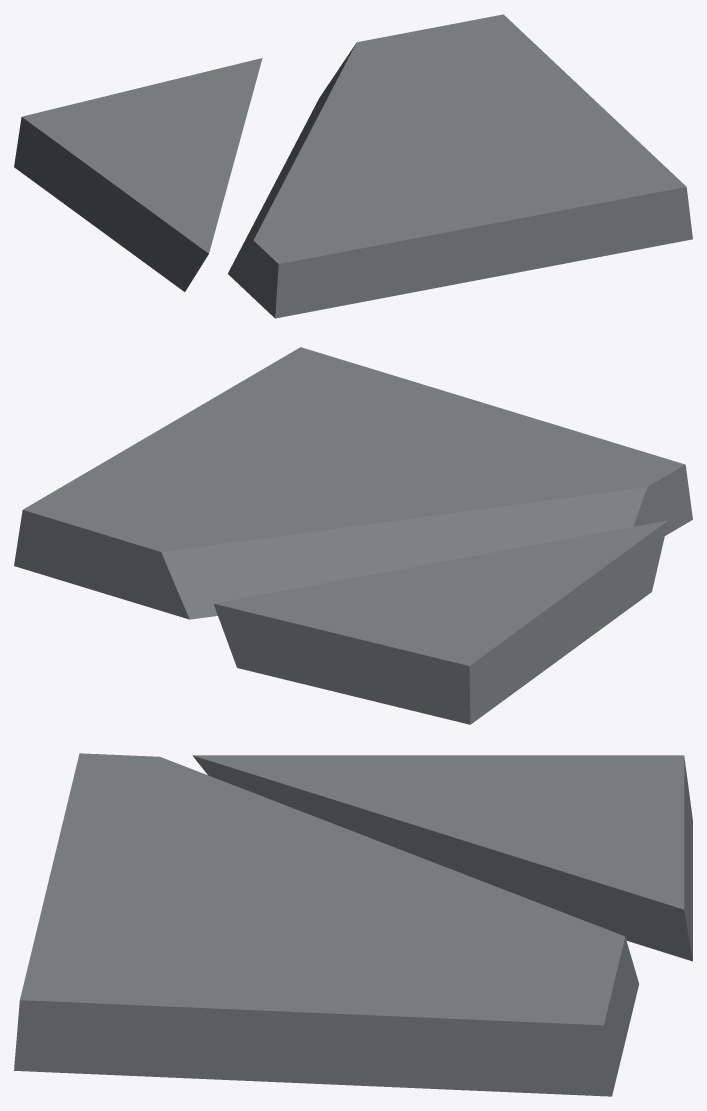
Rendered from Rock_Tile_crk_m_03.fbx.
3 renders of one model, top to bottom at view 1: azimuth 30°, elevation 25°; view 2: azimuth 150°, elevation 25°; view 3: azimuth 270°, elevation 25°, orthographic. The views are drawn at different scales.
Visible parts, largest first — view 1: Rock_Tile_crk_m_03; view 2: Rock_Tile_crk_m_03; view 3: Rock_Tile_crk_m_03.
Boxes of the visible parts, box(x1,y1,x2,y2) form: Rock_Tile_crk_m_03: box(14, 14, 692, 318); Rock_Tile_crk_m_03: box(14, 347, 692, 724); Rock_Tile_crk_m_03: box(14, 753, 692, 1096).
Size of the model in its own units: 46.46 by 6.41 by 45.18.
